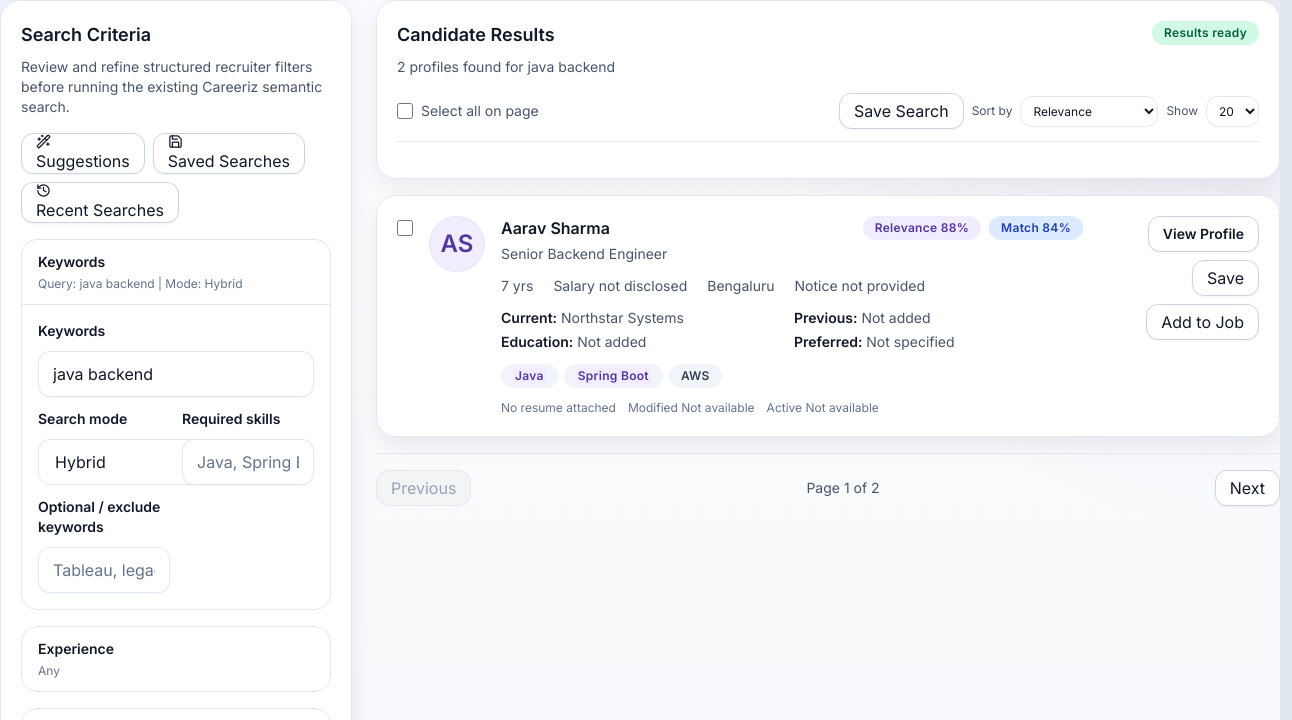
Test case: RecruiterSemanticSearchWorkspace › paginates search results when requested
Click the button "Next": [1247, 488] box x1=1215 y1=470 x2=1280 y2=506
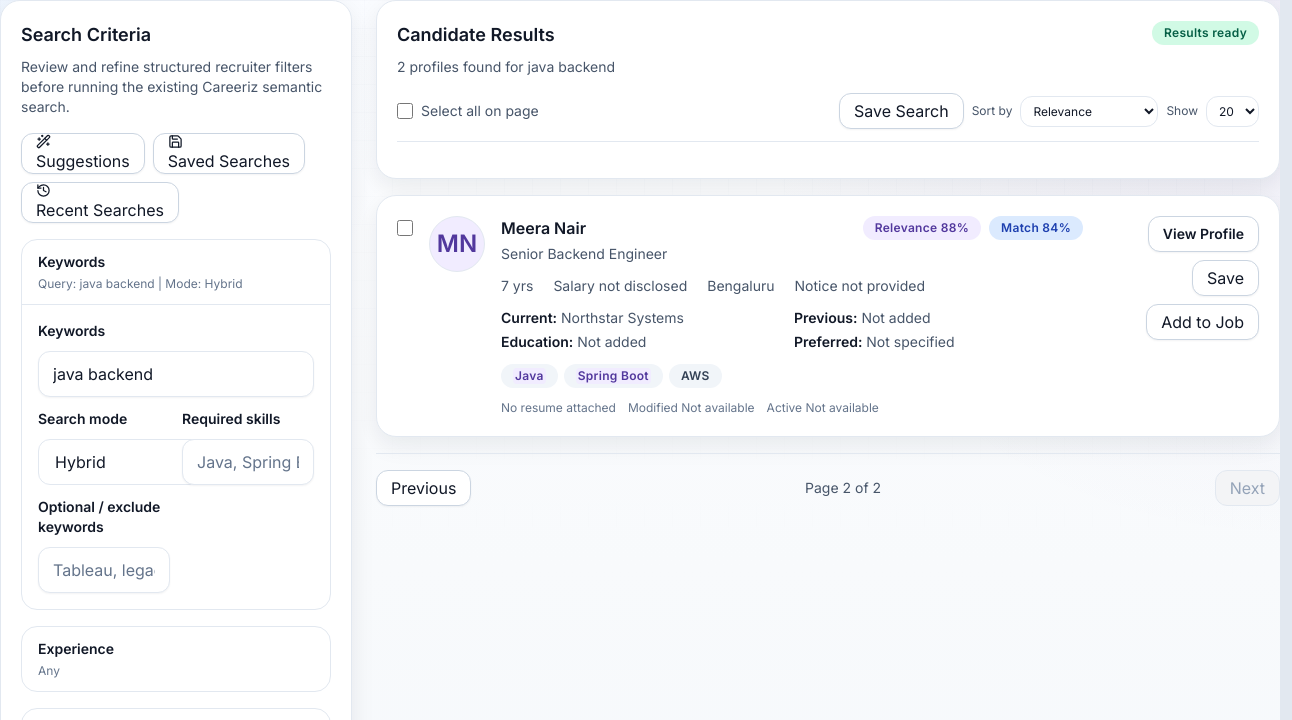
expect the text "Meera Nair" is shown: met, box x1=501 y1=218 x2=586 y2=238
